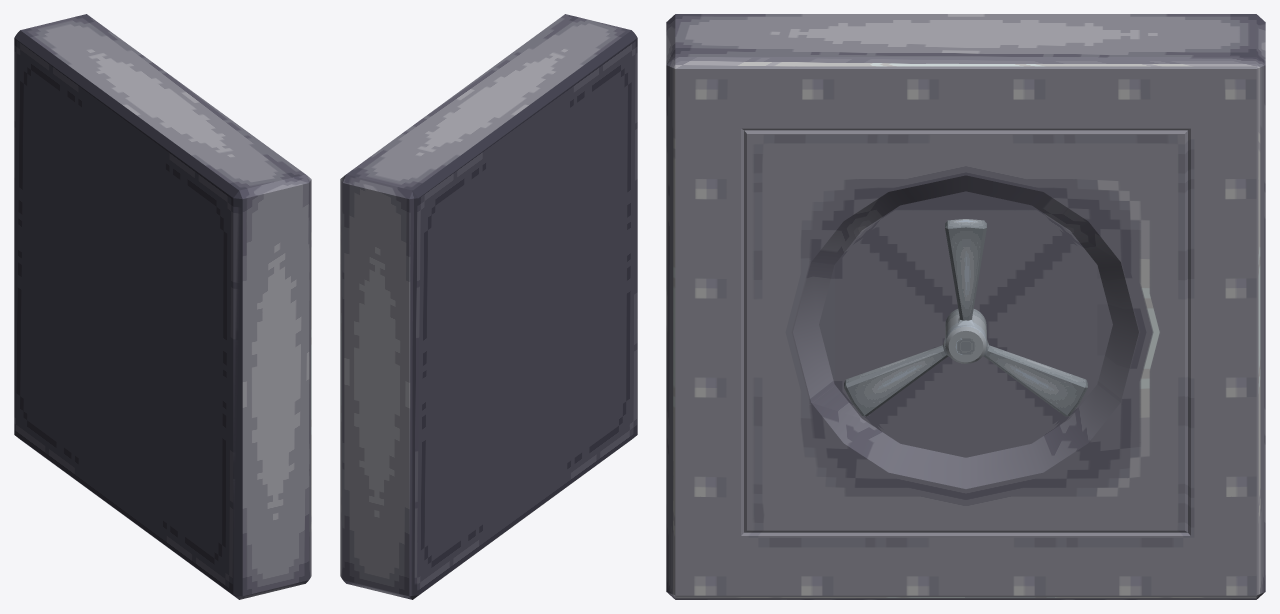
The model's file is Rush_Safe_Door.glb.
3 renders of one model, left to right at view 1: azimuth 30°, elevation 25°; view 2: azimuth 150°, elevation 25°; view 3: azimuth 270°, elevation 25°, orthographic. The views are drawn at different scales.
Parts seen in each view (by area): view 1: Cube.003; view 2: Cube.003; view 3: Cube.003, Cylinder.005.
Boxes of the visible parts, x1=… form: Cube.003: x1=14, y1=14, x2=311, y2=599; Cube.003: x1=340, y1=14, x2=637, y2=599; Cube.003: x1=666, y1=14, x2=1265, y2=599; Cylinder.005: x1=844, y1=219, x2=1087, y2=416.
Size of the model in its own units: 0.513 by 2 by 2.
Materials: 3 (3 with a texture image).
